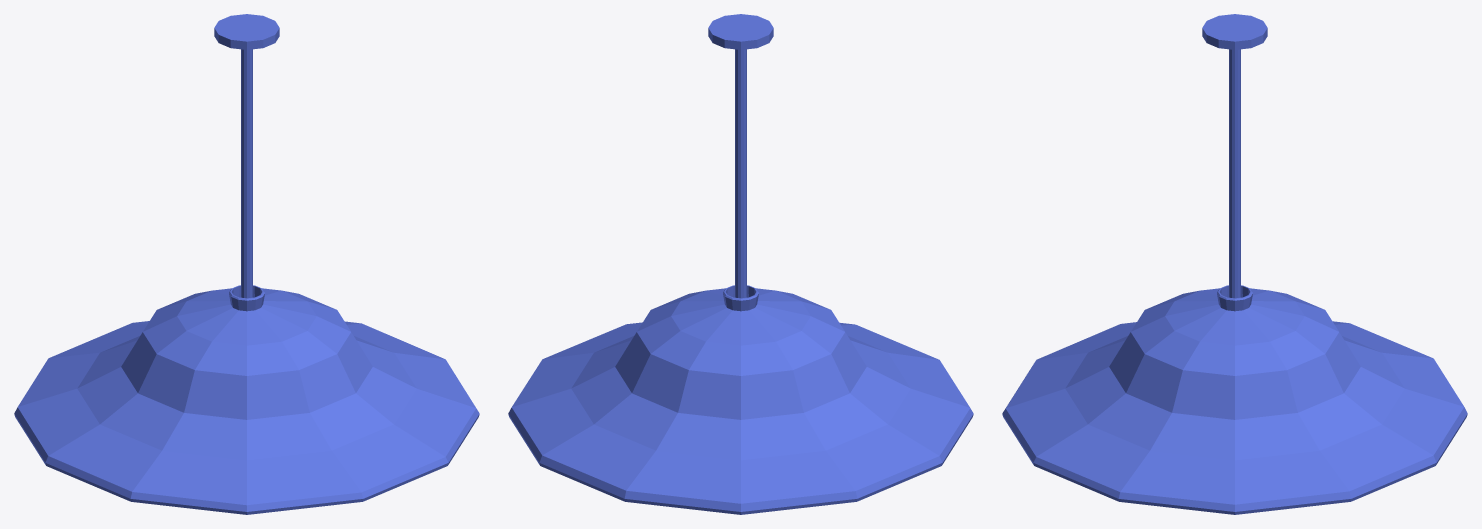
File: AssetsIluminaçao.fbx_LustrePendente.fbx
3 renders of one model, left to right at view 1: azimuth 30°, elevation 25°; view 2: azimuth 150°, elevation 25°; view 3: azimuth 270°, elevation 25°, orthographic.
Visible parts, largest first — view 1: LustrePendenteCone; view 2: LustrePendenteCone; view 3: LustrePendenteCone.
Part boxes in pixels (x1,y1,x2,y2): LustrePendenteCone: (14, 14, 479, 514); LustrePendenteCone: (508, 14, 973, 514); LustrePendenteCone: (1002, 14, 1467, 514).
Bounding box in the file's own units: 82.45 × 76.43 × 82.45.
